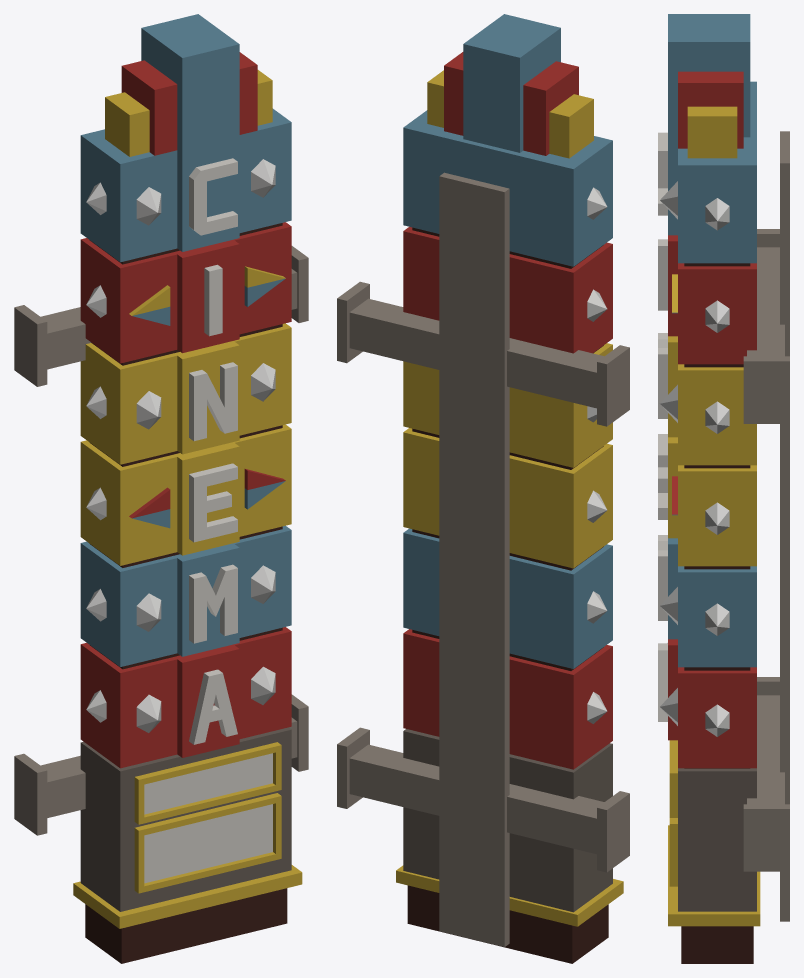
File: theatre-vertical-sign-21c29b.glb
3 renders of one model, left to right at view 1: azimuth 30°, elevation 25°; view 2: azimuth 150°, elevation 25°; view 3: azimuth 270°, elevation 25°, orthographic.
Parts seen in each view (by area): view 1: sign; view 2: sign; view 3: sign.
Boxes of the visible parts, x1=… form: sign: x1=14, y1=14, x2=308, y2=963; sign: x1=337, y1=14, x2=629, y2=963; sign: x1=658, y1=14, x2=789, y2=963.
Bounding box in the file's own units: 1.9 × 6 × 0.8.
